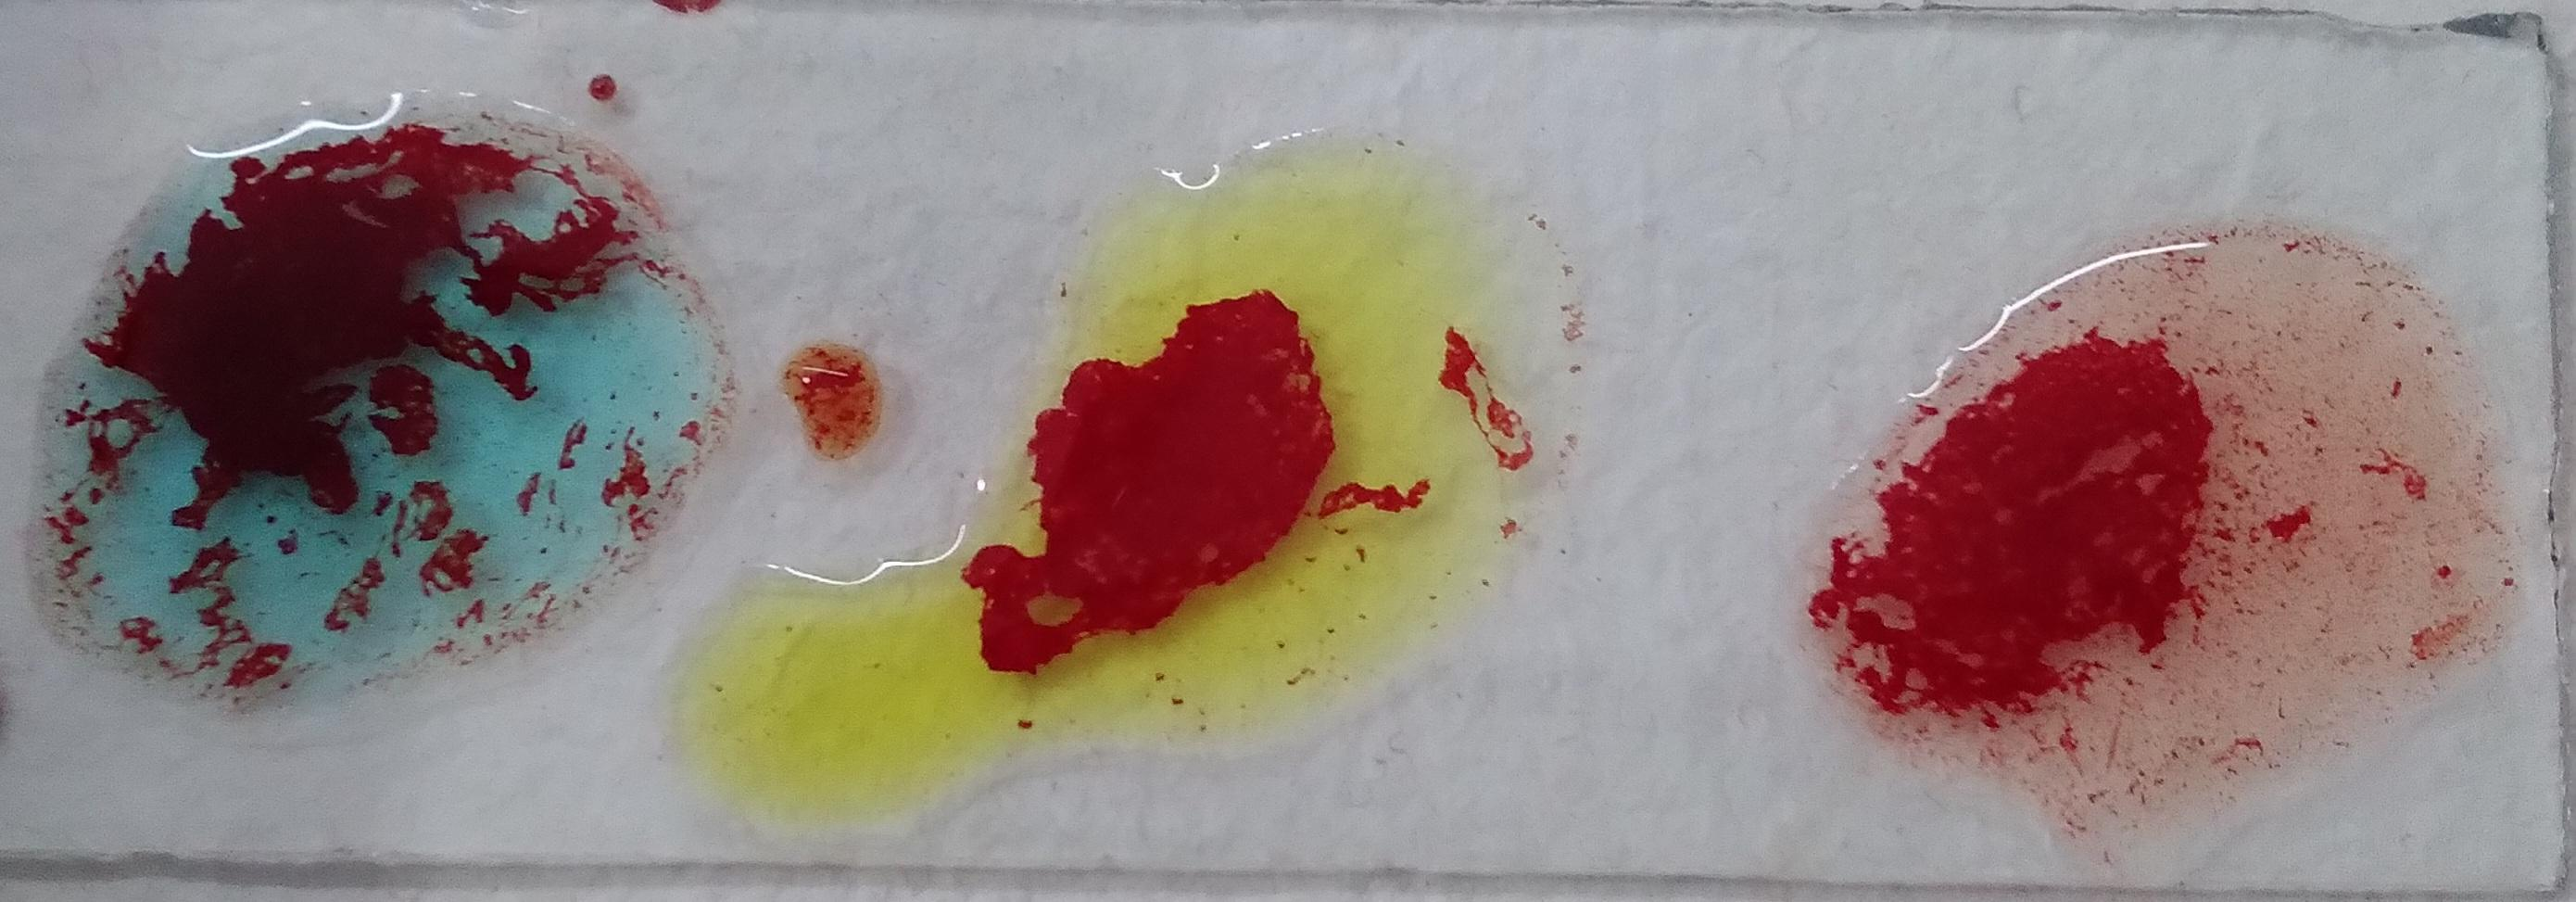A: (1874, 191, 2525, 817)
B: (1038, 156, 1610, 761)
D: (53, 38, 724, 677)
